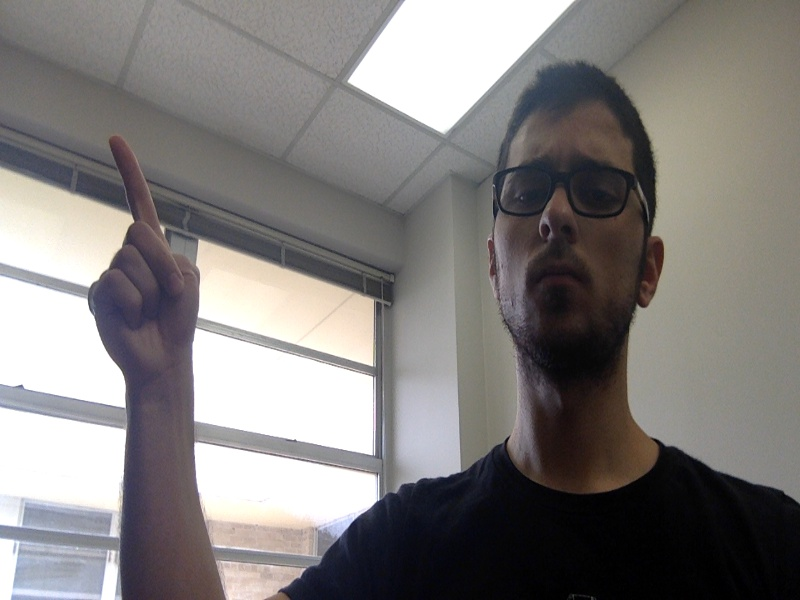1-hand: (90, 137, 202, 358)
